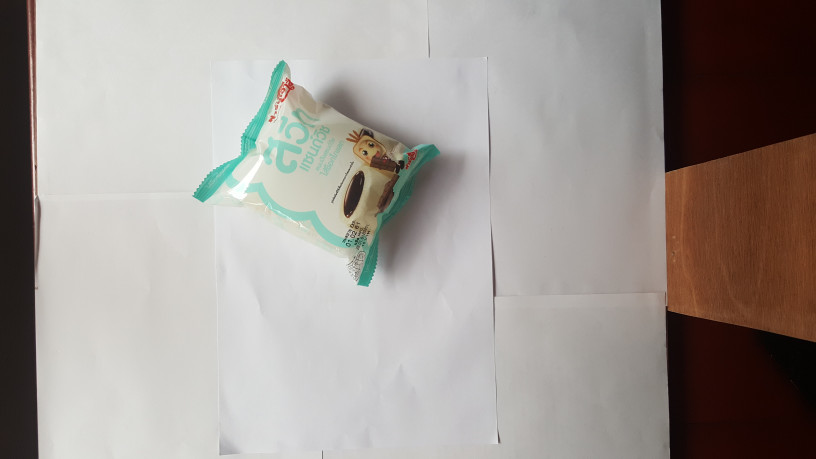farmhouse-sweetsandwich-chocolate: (191, 63, 441, 292)
